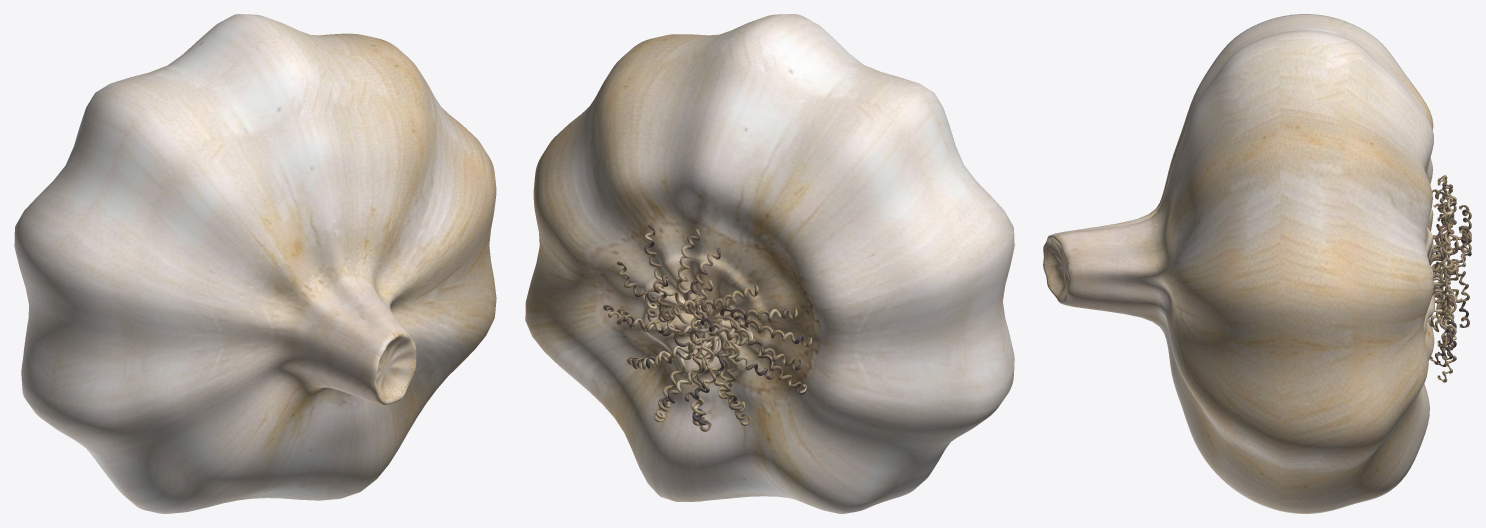
File: 10180_Garlic-L1.obj
The picture shows the model from 3 angles, left to right: view 1: azimuth 30°, elevation 25°; view 2: azimuth 150°, elevation 25°; view 3: azimuth 270°, elevation 25°; orthographic projection. The views are drawn at different scales.
Parts seen in each view (by area): view 1: Garlic; view 2: Garlic; view 3: Garlic.
Part boxes in pixels (x1,y1,x2,y2): Garlic: (14, 14, 496, 513); Garlic: (525, 14, 1014, 513); Garlic: (1043, 14, 1471, 513).
Bounding box in the file's own units: 7.59 × 7.77 × 6.71.
1 material, 1 textured.
